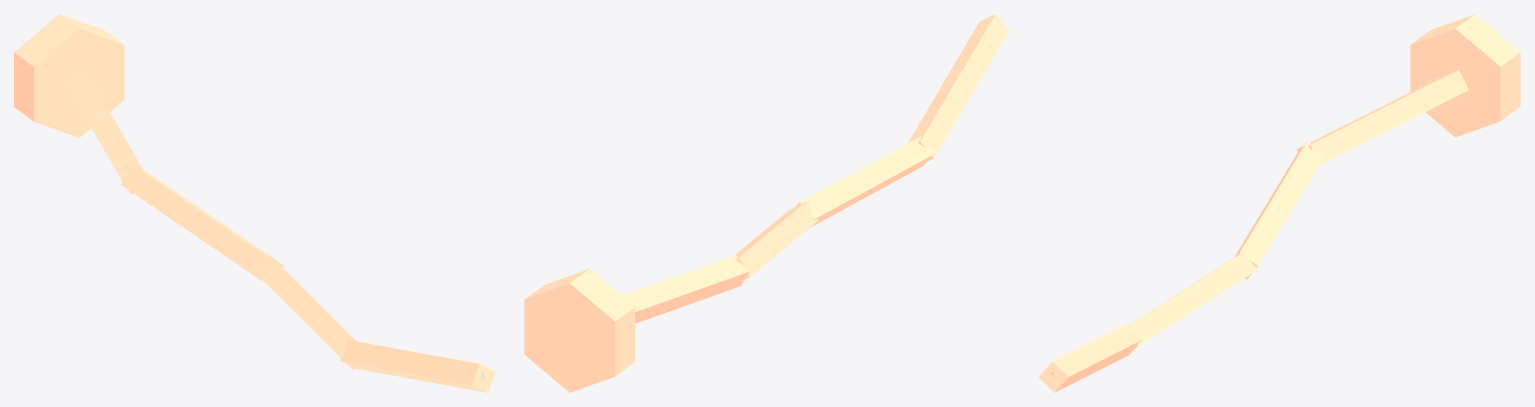
Rendered from Proj_AegisHackBolt.fbx.
3 views of the same model, side by side, from view 1: azimuth 30°, elevation 25°; view 2: azimuth 150°, elevation 25°; view 3: azimuth 330°, elevation 25° (orthographic).
Visible parts, largest first — view 1: PHK_Arc, PHK_Head; view 2: PHK_Arc, PHK_Head; view 3: PHK_Arc, PHK_Head.
Boxes of the visible parts, <box> form: PHK_Arc: <box>65,68,495,392</box>; PHK_Head: <box>14,14,124,137</box>; PHK_Arc: <box>622,14,1009,323</box>; PHK_Head: <box>524,268,635,392</box>; PHK_Arc: <box>1038,70,1468,392</box>; PHK_Head: <box>1410,14,1520,137</box>.
Bounding box in the file's own units: 0.06 × 0.0619 × 0.4231.
